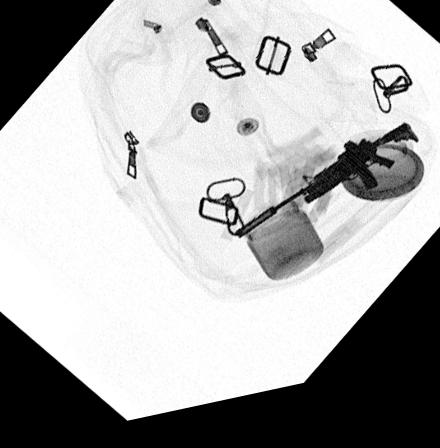Gun: (231, 139, 419, 251)
